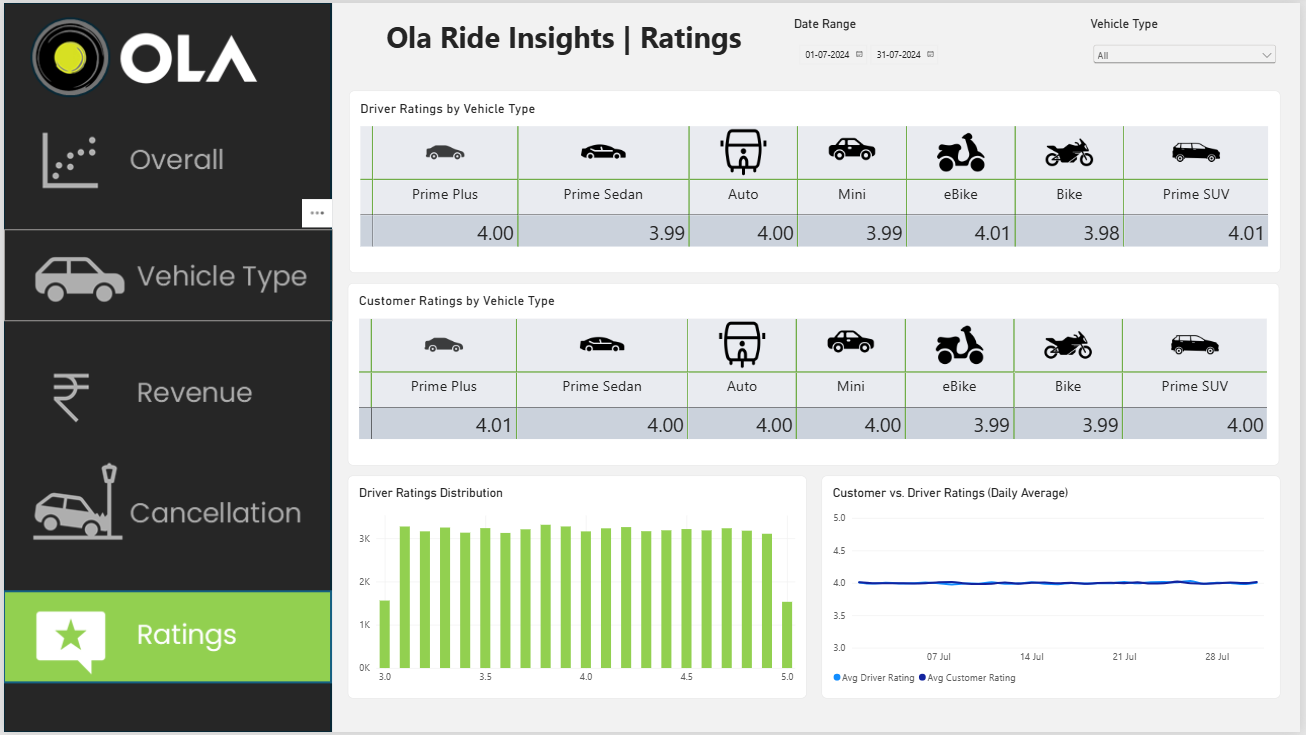

This screenshot's page, from the dashboard's own definition file:
{"tool":"powerbi","page":{"name":"Ratings","canvas":[1920,1080],"ordinal":4},"visuals":[{"type":"slicer","title":"Date Range","fields":{"Values":["ola_rides.booking_date"]},"box":[1170,20,420,90],"z":0},{"type":"slicer","title":"Vehicle Type","fields":{"Values":["ola_rides.vehicle_type"]},"box":[1610,20,280,90],"z":1000},{"type":"textbox","box":[510,20,640,90],"z":2000},{"type":"actionButton","box":[0,171,486.9,136.3],"z":3000},{"type":"actionButton","box":[0,335.9,486.6,136.2],"z":4000},{"type":"actionButton","box":[0,517.5,486.6,132.5],"z":5000},{"type":"actionButton","box":[0,690,486.6,132.5],"z":6000},{"type":"pivotTable","title":"Driver Ratings by Vehicle Type","fields":{"Columns":["ola_rides.vehicle_image_url","ola_rides.vehicle_type"],"Values":["ola_rides.Avg Driver Rating"]},"box":[510.2,130,1380,270],"z":7000},{"type":"pivotTable","title":"Customer Ratings by Vehicle Type","fields":{"Columns":["ola_rides.vehicle_image_url","ola_rides.vehicle_type"],"Values":["ola_rides.Avg Customer Rating"]},"box":[510,415,1380,270],"z":8000},{"type":"clusteredColumnChart","title":"Driver Ratings Distribution","fields":{"Category":["ola_rides.driver_rating"],"Y":["ola_rides.Successful Rides"]},"box":[510,700,680,330],"z":8001},{"type":"lineChart","title":"Customer vs. Driver Ratings (Daily Average)","fields":{"Category":["ola_rides.booking_date"],"Y":["ola_rides.Avg Driver Rating","ola_rides.Avg Customer Rating"]},"box":[1210.2,700,680,330],"z":8002}]}

Visuals, with their boxes in screenshot pixels (x1, y1, x2, y2), scaled from the page's 1920x1080 canvas onto the 1306x735 screenshot:
"Date Range" slicer: BBox(796, 14, 1082, 75)
"Vehicle Type" slicer: BBox(1095, 14, 1286, 75)
textbox: BBox(347, 14, 782, 75)
actionButton: BBox(0, 116, 331, 209)
actionButton: BBox(0, 229, 331, 321)
actionButton: BBox(0, 352, 331, 442)
actionButton: BBox(0, 470, 331, 560)
"Driver Ratings by Vehicle Type" pivotTable: BBox(347, 88, 1286, 272)
"Customer Ratings by Vehicle Type" pivotTable: BBox(347, 282, 1286, 466)
"Driver Ratings Distribution" clusteredColumnChart: BBox(347, 476, 809, 701)
"Customer vs. Driver Ratings (Daily Average)" lineChart: BBox(823, 476, 1286, 701)
